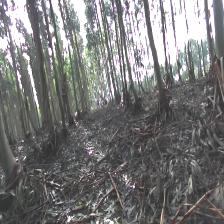trunk: (31, 25, 55, 134), (144, 7, 165, 104), (123, 35, 137, 99), (53, 68, 66, 128)
